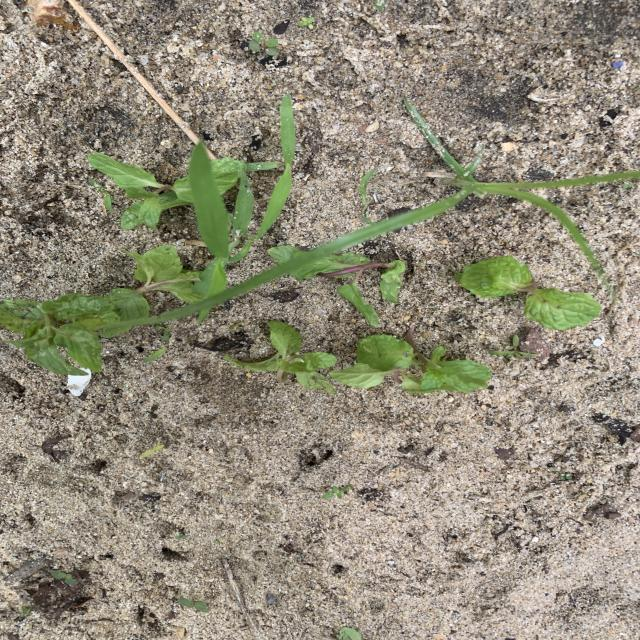crop: (0, 288, 149, 396), (454, 256, 602, 330), (329, 327, 491, 393), (287, 252, 405, 326), (223, 321, 337, 393), (88, 153, 194, 229), (124, 245, 205, 303), (213, 157, 242, 195), (268, 246, 310, 263)
weed: (404, 99, 640, 270), (254, 105, 296, 241), (184, 143, 230, 260), (193, 257, 227, 298), (232, 187, 254, 234)
